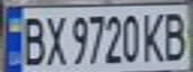0: (121, 10, 142, 64)
2: (103, 10, 124, 65)
7: (84, 11, 106, 65)
9: (66, 11, 90, 65)
B: (160, 8, 193, 62), (18, 11, 48, 68)
K: (139, 9, 169, 63)
X: (42, 11, 69, 68)
